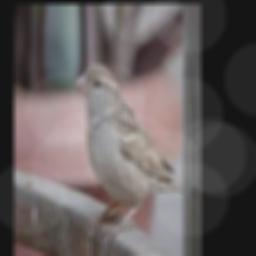Sparrow: (73, 63, 184, 243)
